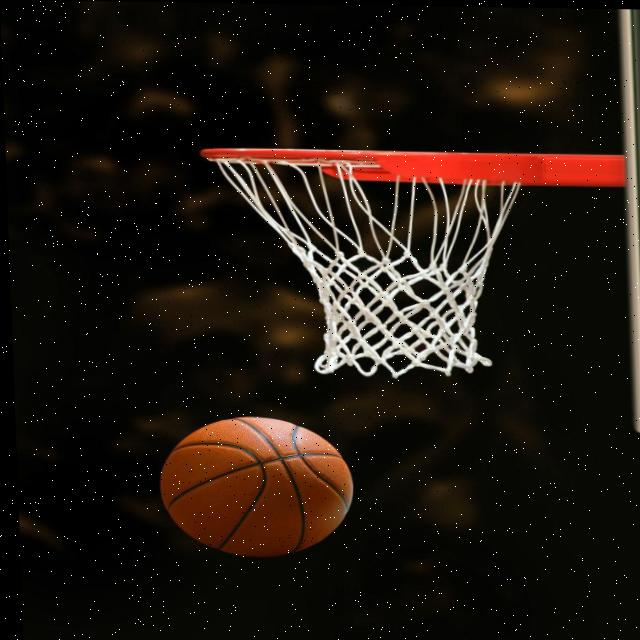basketball: (156, 414, 358, 560)
hoop: (200, 146, 533, 375)
